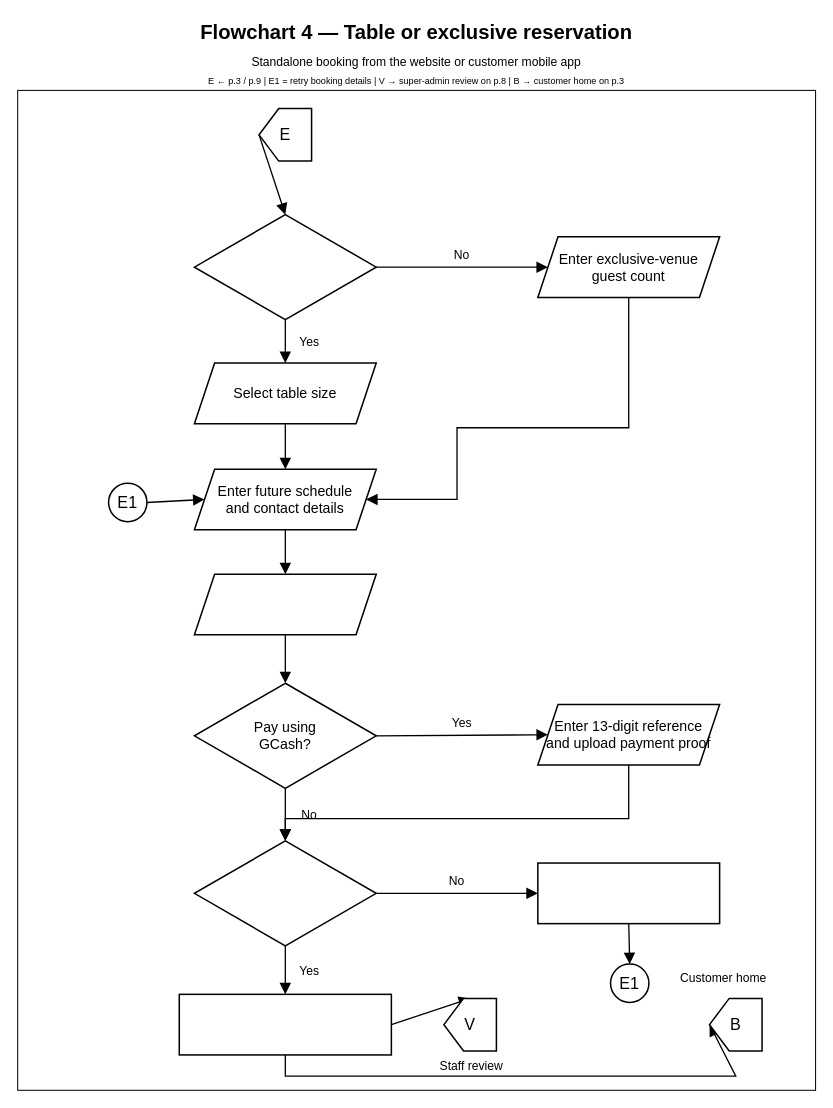
Some shapes in this 833 by 1108 pixel diagram are drawn without their labels. The centre of each missing label's shape, as x and y in pixels:
"Details and schedule valid?" belongs at point (285, 893).
"Optional menu items and special requests" belongs at point (285, 604).
"Save pending booking, fees and items; show reference" belongs at point (285, 1024).
"Show errors; revise booking" belongs at point (628, 893).
"Table booking?" belongs at point (285, 266).
